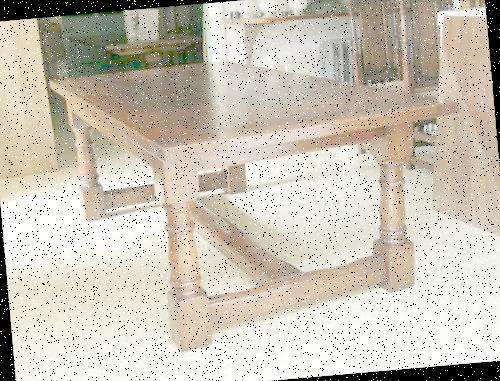Mesa: (47, 37, 480, 365)
